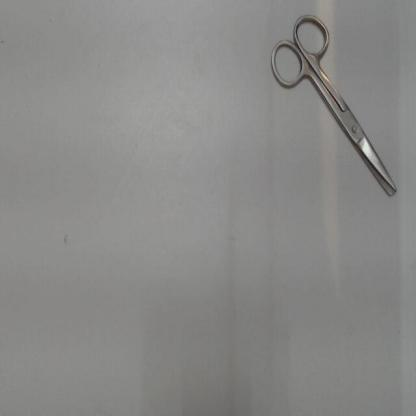Dressing Scissors: (262, 6, 404, 205)
